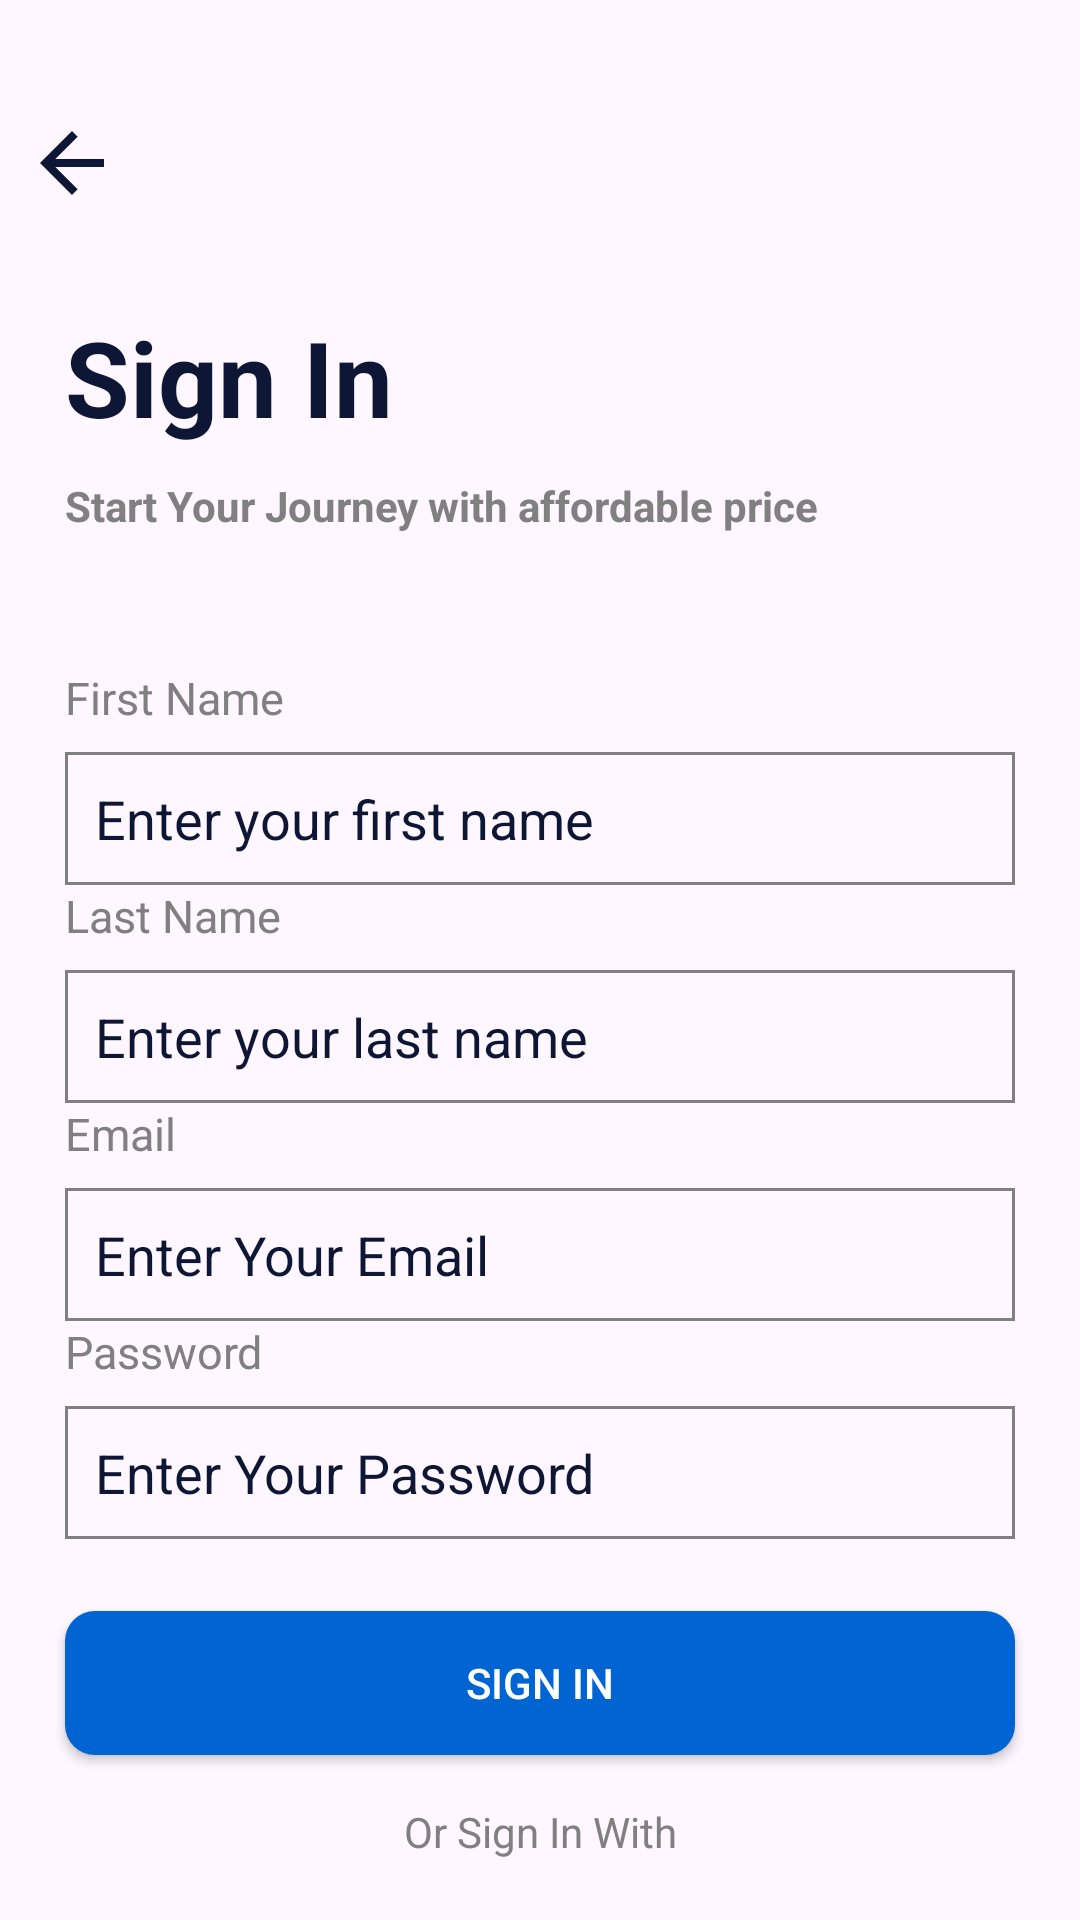

Named icons in this screenshot (1080*1920) and their bounding boxes, (x1, y1, x2, y2):
arrow back: (40, 131, 104, 195)
